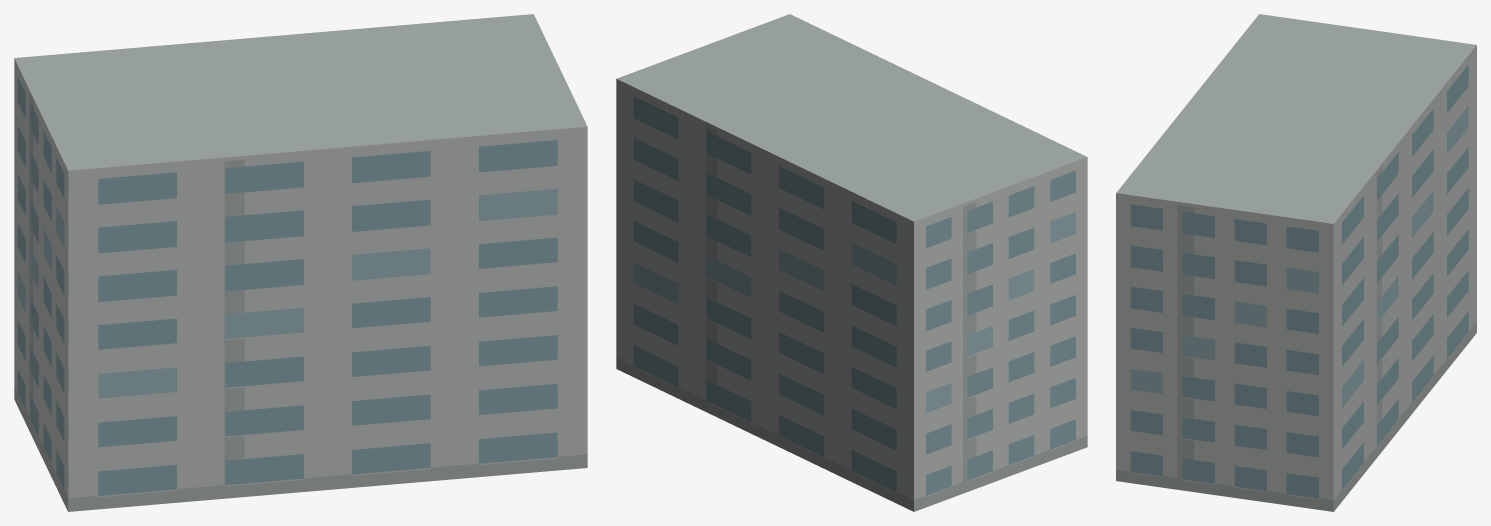
The model's file is survey-upis-32847999.glb.
The picture shows the model from 3 angles, left to right: view 1: azimuth 30°, elevation 25°; view 2: azimuth 150°, elevation 25°; view 3: azimuth 270°, elevation 25°; orthographic projection. The views are drawn at different scales.
Visible parts, largest first — view 1: survey-upis-32847999.tmp; view 2: survey-upis-32847999.tmp; view 3: survey-upis-32847999.tmp.
Boxes of the visible parts, bbox=[...] form: survey-upis-32847999.tmp: bbox=[14, 14, 587, 511]; survey-upis-32847999.tmp: bbox=[616, 14, 1087, 511]; survey-upis-32847999.tmp: bbox=[1116, 14, 1476, 511].
Bounding box in the file's own units: 33.98 × 21.73 × 24.68.
